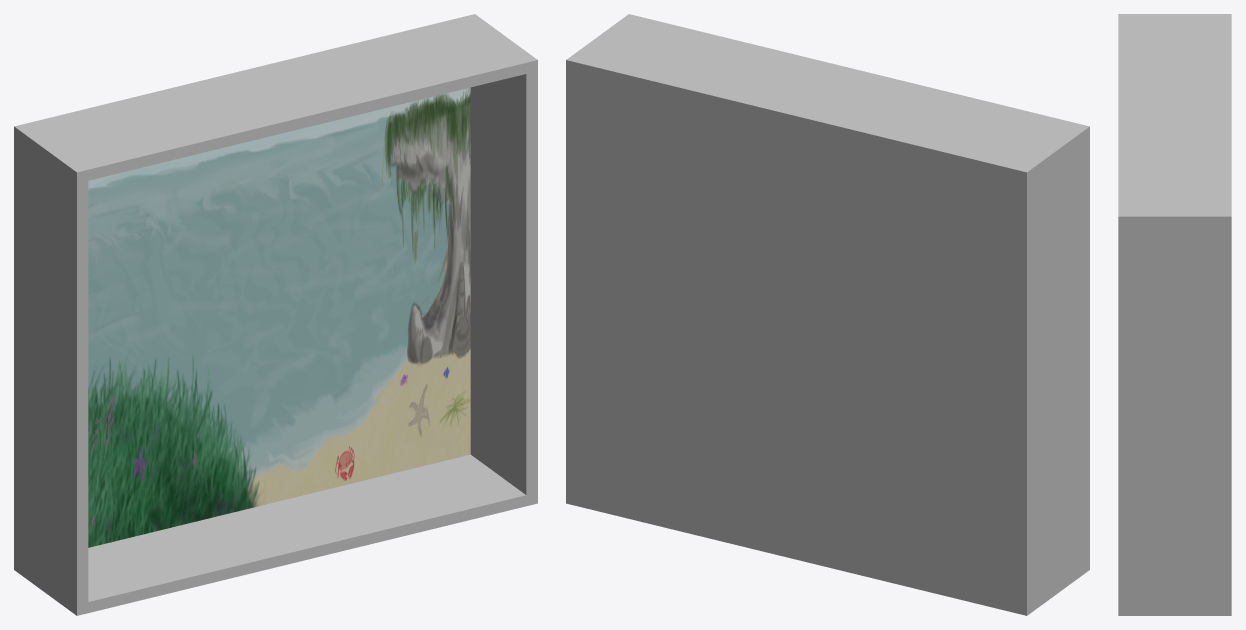
The model's file is background.fbx.
The picture shows the model from 3 angles, left to right: view 1: azimuth 30°, elevation 25°; view 2: azimuth 150°, elevation 25°; view 3: azimuth 270°, elevation 25°; orthographic projection. The views are drawn at different scales.
Visible parts, largest first — view 1: pCube78; view 2: pCube78; view 3: pCube78.
Boxes of the visible parts, x1,y1,x2,y2 form: pCube78: [14, 14, 537, 615]; pCube78: [566, 14, 1089, 615]; pCube78: [1118, 14, 1231, 615].
Bounding box in the file's own units: 3538 × 3253 × 836.
